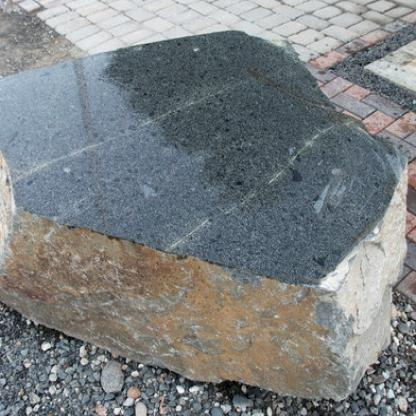Igneous_Granite: (0, 25, 415, 399)
